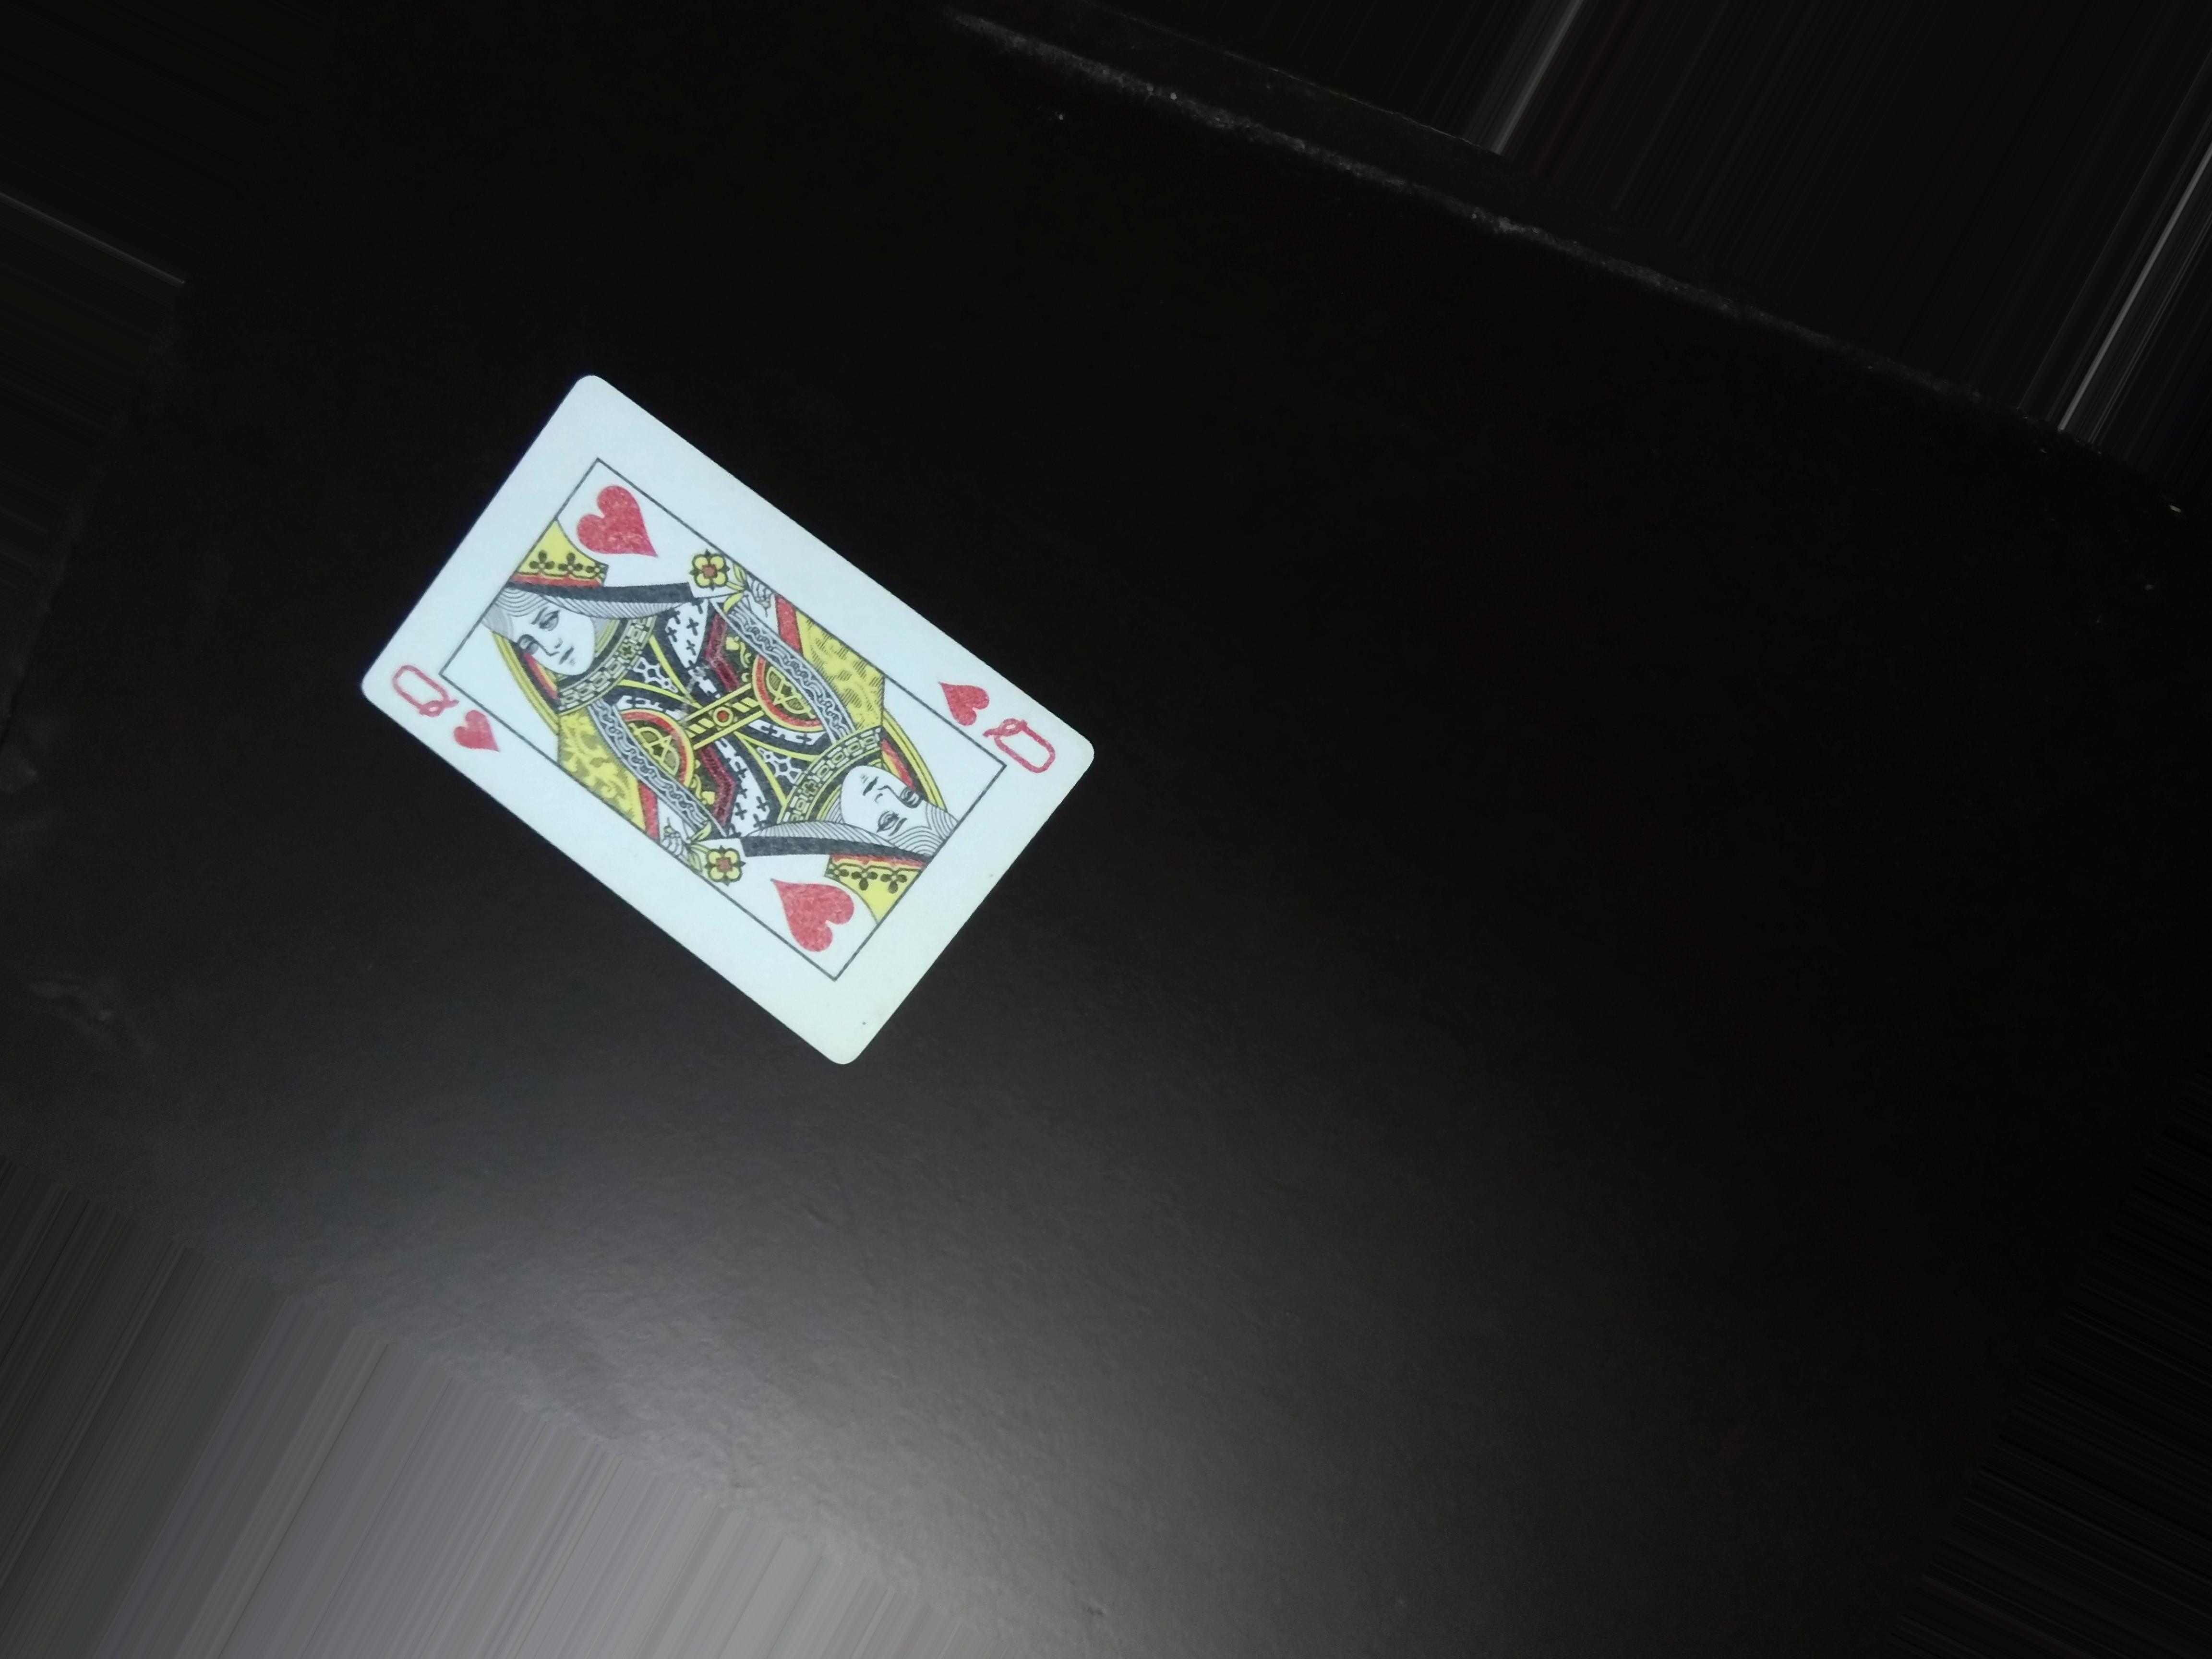QH: (366, 657, 524, 758)
